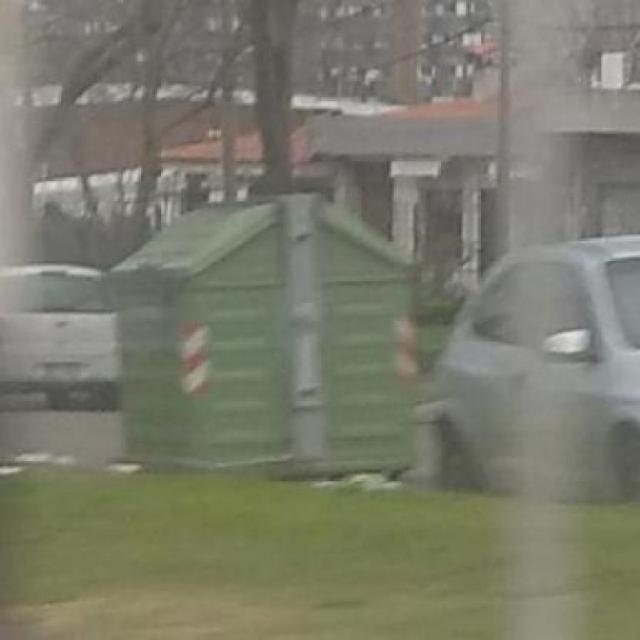garbage: (0, 430, 157, 493), (329, 459, 418, 516)
